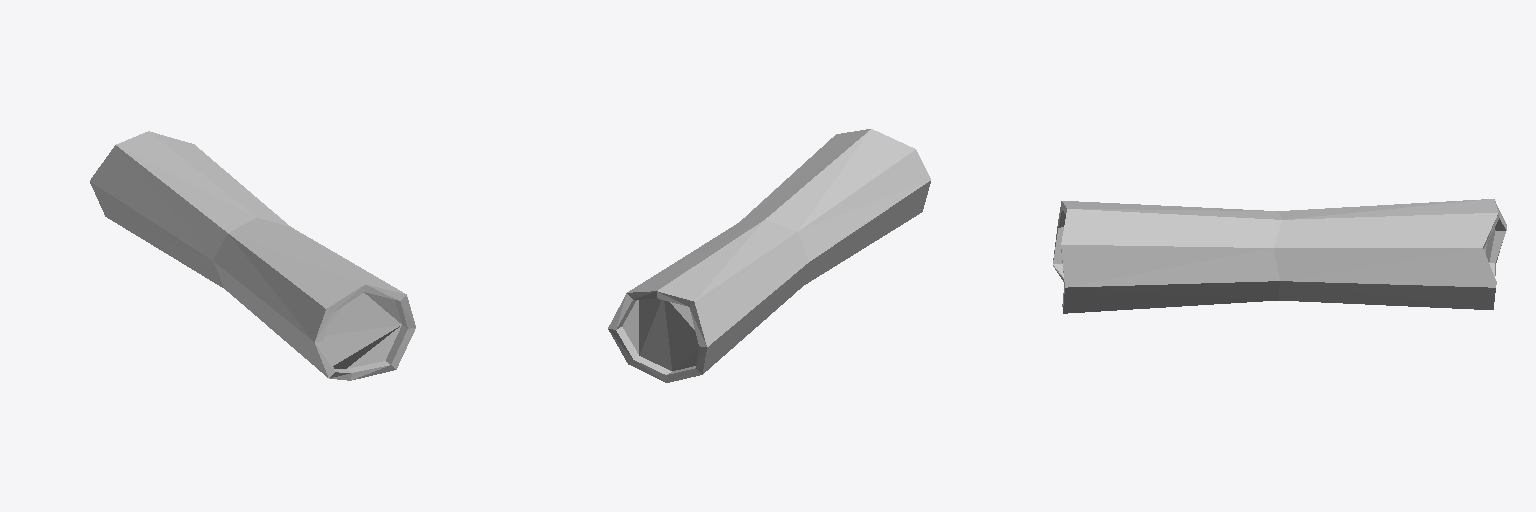
Rendered from log.obj.
The picture shows the model from 3 angles: view 1: azimuth 30°, elevation 25°; view 2: azimuth 150°, elevation 25°; view 3: azimuth 270°, elevation 25°; orthographic projection.
Visible parts, largest first — view 1: Meshpart1; view 2: Meshpart1; view 3: Meshpart1.
Boxes of the visible parts, box(x1,y1,x2,y2) form: Meshpart1: box(90, 131, 415, 380); Meshpart1: box(608, 129, 930, 382); Meshpart1: box(1053, 199, 1506, 313).
Size of the model in its own units: 3.49 by 3.07 by 13.